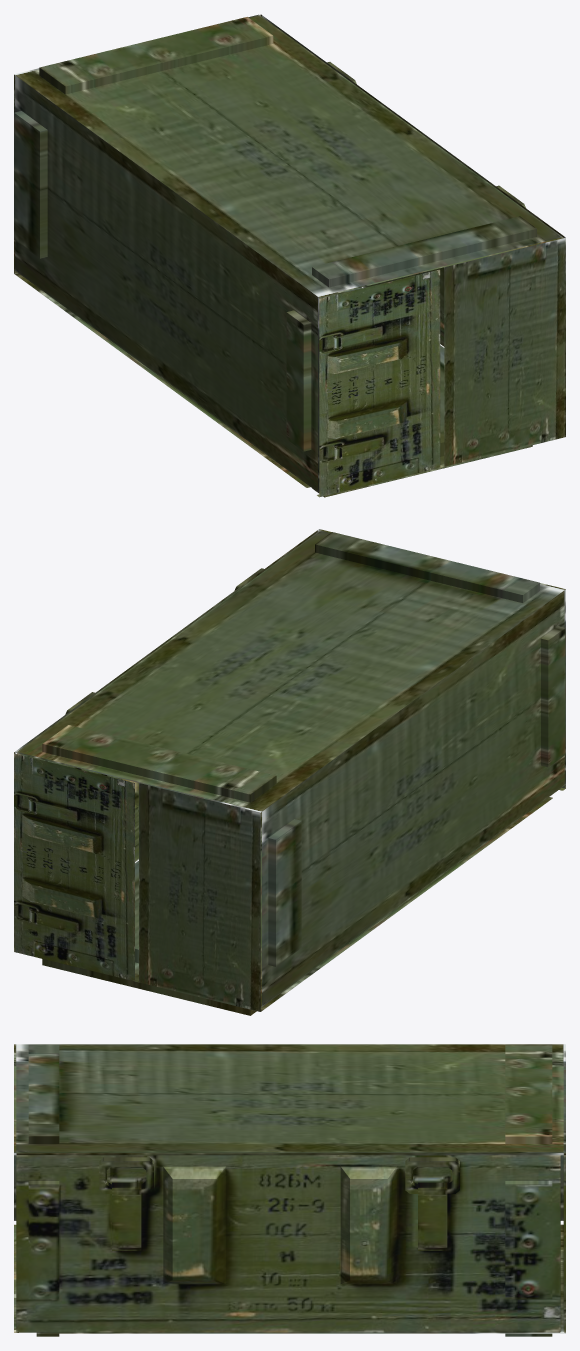
File: Ammo.fbx
3 renders of one model, top to bottom at view 1: azimuth 30°, elevation 25°; view 2: azimuth 150°, elevation 25°; view 3: azimuth 270°, elevation 25°, orthographic. The views are drawn at different scales.
Parts seen in each view (by area): view 1: Ammo_LOD0; view 2: Ammo_LOD0; view 3: Ammo_LOD0.
Part boxes in pixels (left/top/right/bottom): Ammo_LOD0: left=14, top=14, right=565, bottom=497; Ammo_LOD0: left=14, top=529, right=565, bottom=1015; Ammo_LOD0: left=14, top=1044, right=565, bottom=1336.
Size of what is drawn, in the model's own units: 50 by 40 by 100.
